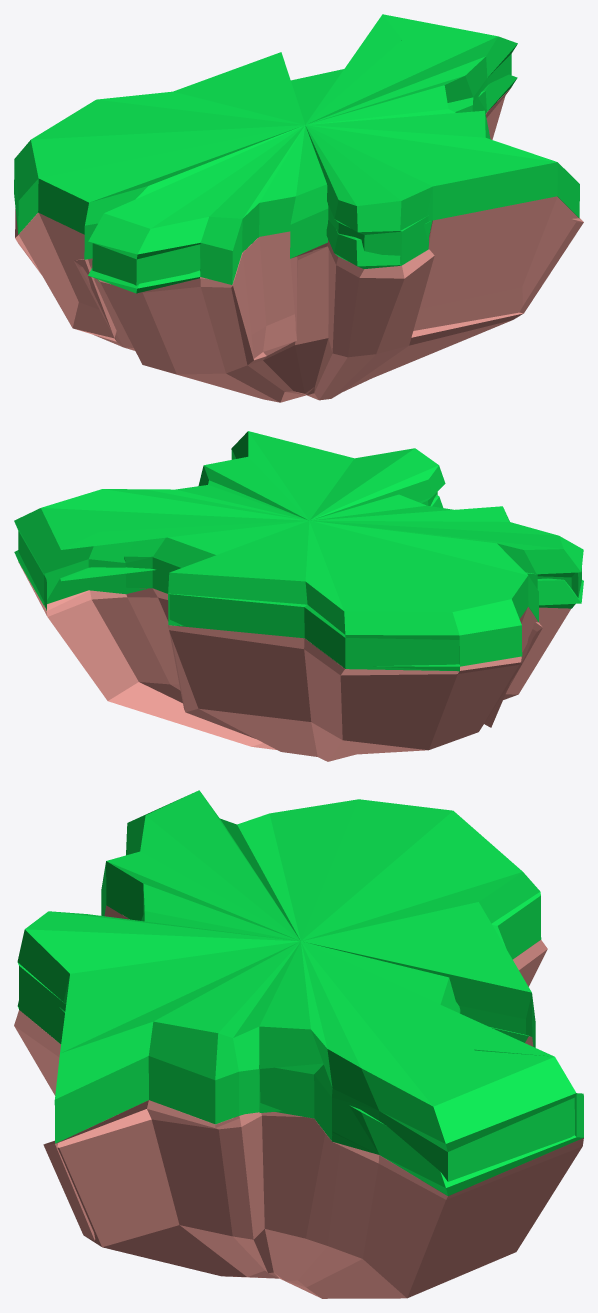
Rendered from firstIsland.fbx.
3 views of the same model, one above another, from view 1: azimuth 30°, elevation 25°; view 2: azimuth 150°, elevation 25°; view 3: azimuth 270°, elevation 25° (orthographic). The views are drawn at different scales.
Parts seen in each view (by area): view 1: Vert.001, Vert.004; view 2: Vert.001, Vert.004; view 3: Vert.001, Vert.004.
Boxes of the visible parts, x1,y1,x2,y2 form: Vert.001: (14,14,579,293); Vert.004: (15,87,583,402); Vert.001: (14,431,583,671); Vert.004: (18,562,570,761); Vert.001: (17,790,583,1195); Vert.004: (14,905,583,1298).
Bounding box in the file's own units: 1176 × 566 × 842.
